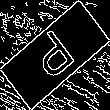P_SE: (27, 24, 83, 86)
